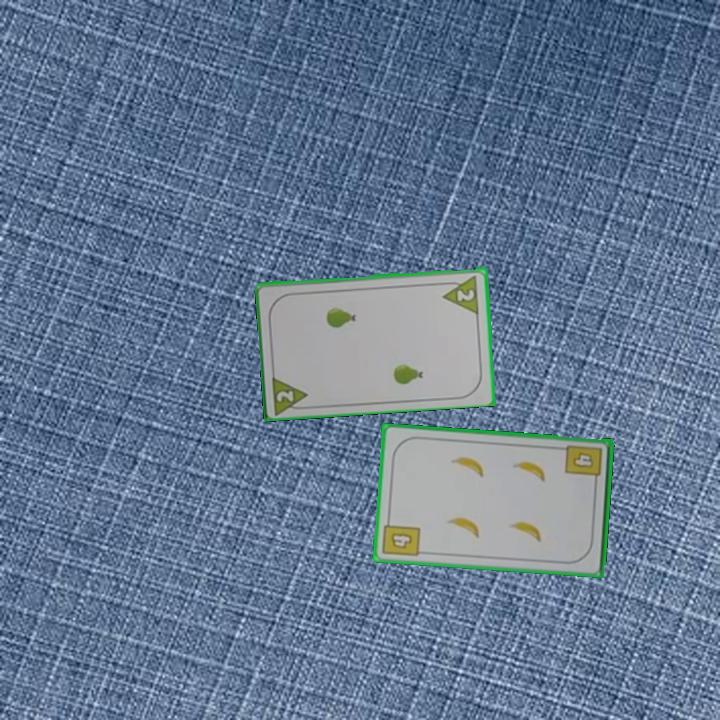2p: (439, 271, 482, 316), (273, 387, 297, 404)
4b: (379, 514, 423, 560), (562, 442, 605, 487)
